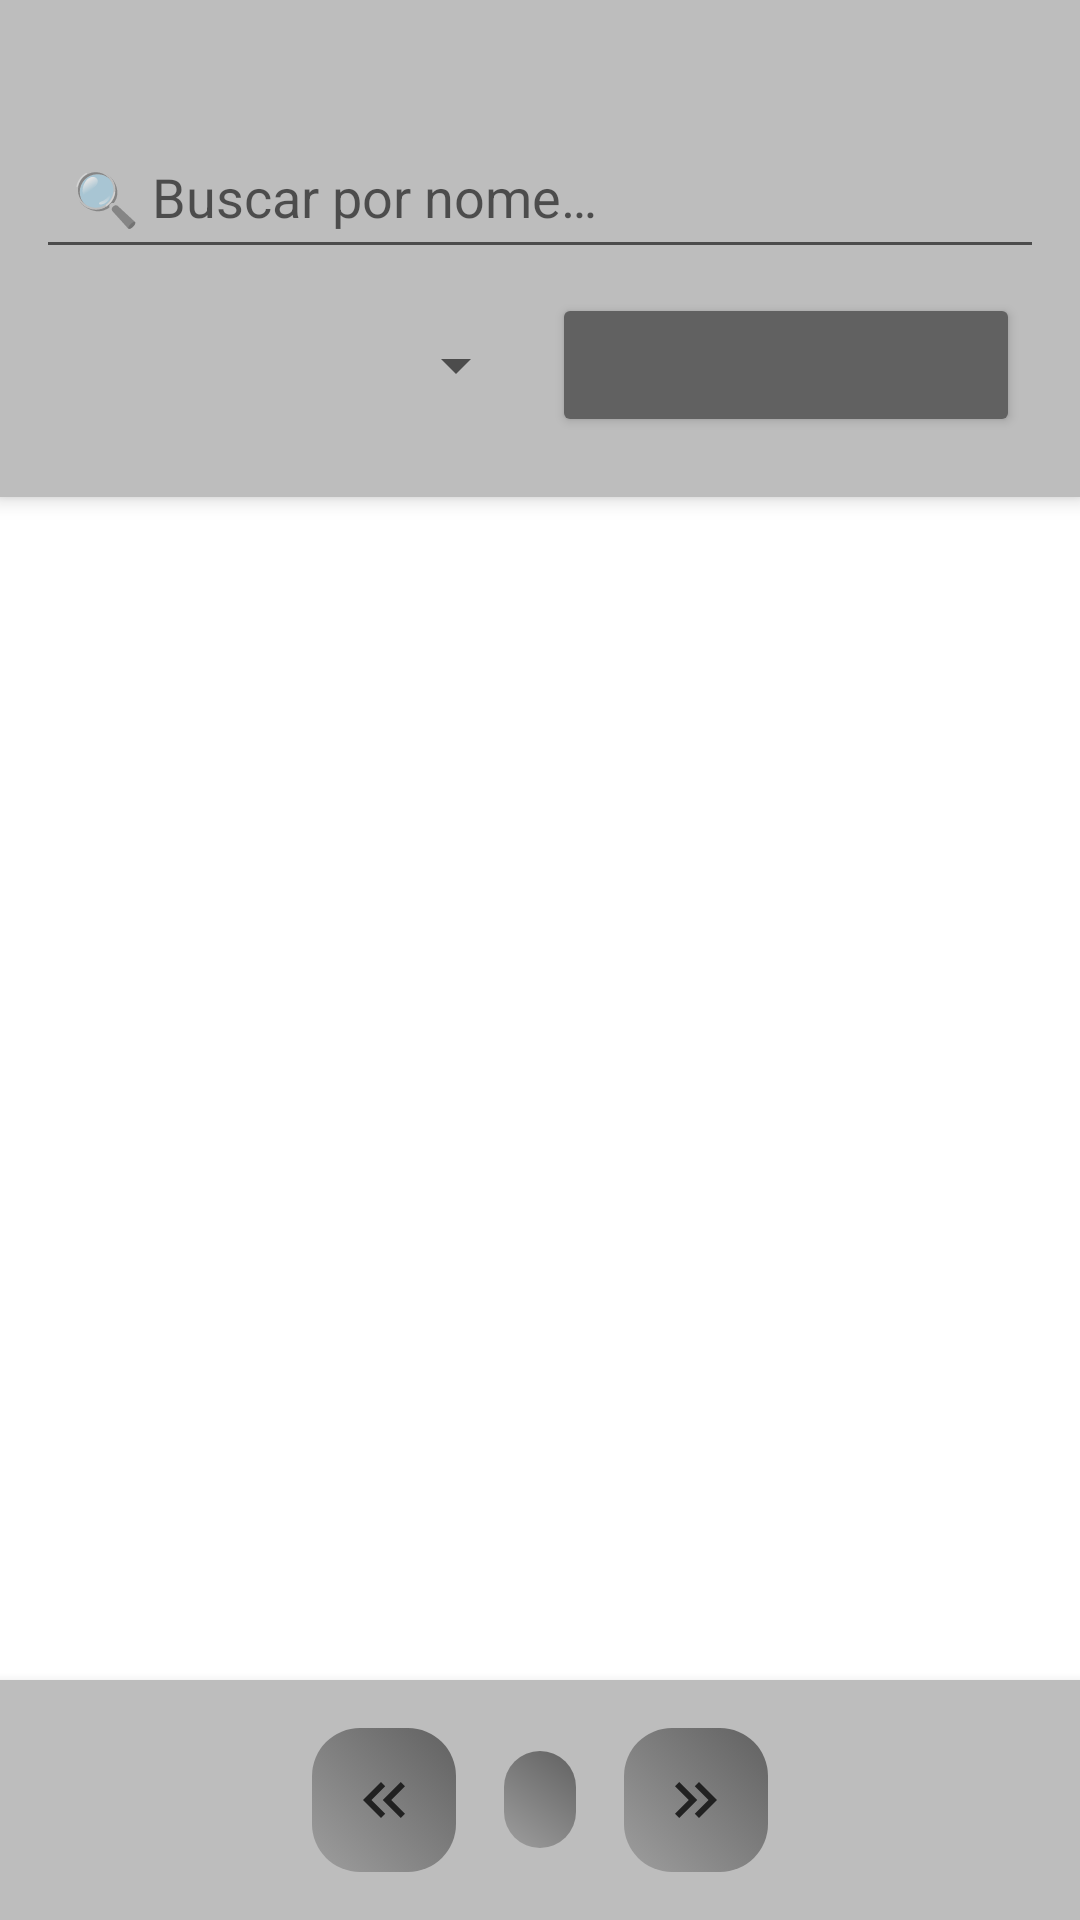

Locate icon controls on the screen. Image size 1080w x 1920h, boxes as bbox(x1, y1, x2, y2).
Anterior: bbox(312, 1728, 456, 1872)
Próximo: bbox(624, 1728, 768, 1872)
